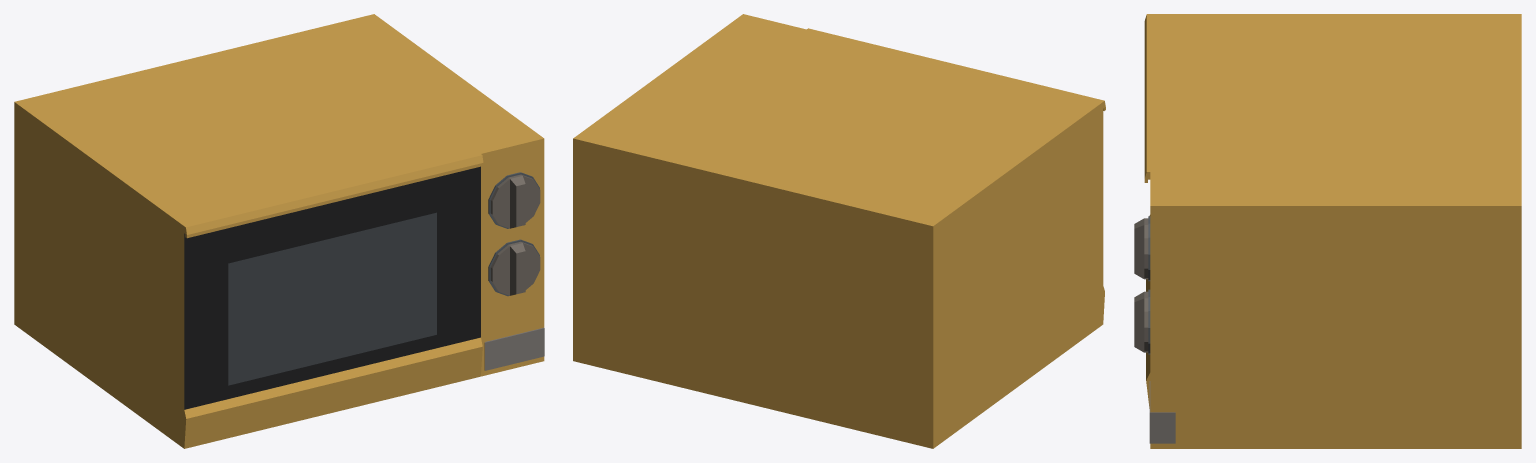
The model's file is microwave_01_D.gltf.
The picture shows the model from 3 angles, left to right: view 1: azimuth 30°, elevation 25°; view 2: azimuth 150°, elevation 25°; view 3: azimuth 270°, elevation 25°; orthographic projection. The views are drawn at different scales.
Visible parts, largest first — view 1: microwave_01_D, DoorFORmicrowave_01_D, Switchformicrowave_02_D, Switchformicrowave_01_D, buttonformicrowave_01_D; view 2: microwave_01_D, DoorFORmicrowave_01_D; view 3: microwave_01_D, DoorFORmicrowave_01_D, buttonformicrowave_01_D, Switchformicrowave_01_D, Switchformicrowave_02_D.
Boxes of the visible parts, x1,y1,x2,y2 form: microwave_01_D: (14,14,544,435); DoorFORmicrowave_01_D: (166,141,483,448); Switchformicrowave_02_D: (490,241,540,295); Switchformicrowave_01_D: (490,174,540,228); buttonformicrowave_01_D: (484,327,544,370); microwave_01_D: (573,14,1085,448); DoorFORmicrowave_01_D: (789,28,1105,337); microwave_01_D: (1148,14,1521,448); DoorFORmicrowave_01_D: (1144,14,1188,408); buttonformicrowave_01_D: (1149,381,1175,443); Switchformicrowave_01_D: (1134,218,1148,279); Switchformicrowave_02_D: (1134,291,1148,352).
Bounding box in the file's own units: 0.44 × 0.26 × 0.3754.
Materials: 1 (1 with a texture image).
